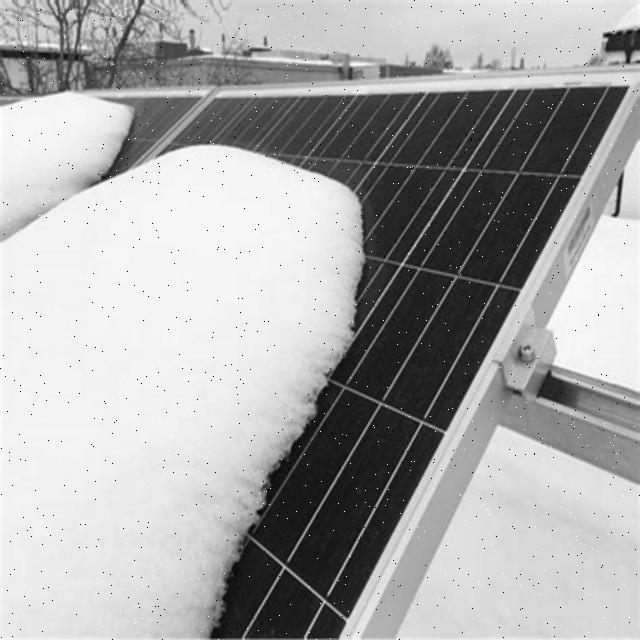snow covered: (133, 93, 581, 323)
